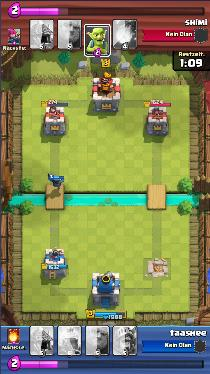EGoblinCage: (46, 173, 64, 188)
